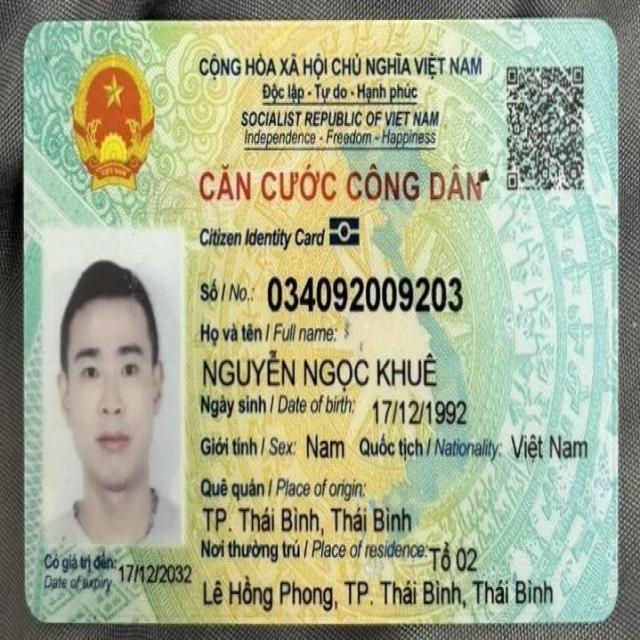current_place: (201, 568, 556, 616), (427, 540, 487, 578)
dob: (371, 396, 471, 428)
expire_date: (117, 556, 195, 589)
gender: (302, 428, 349, 465)
id: (267, 272, 465, 314)
name: (201, 345, 441, 389)
nationality: (508, 427, 591, 467)
origin_place: (202, 501, 415, 538)
